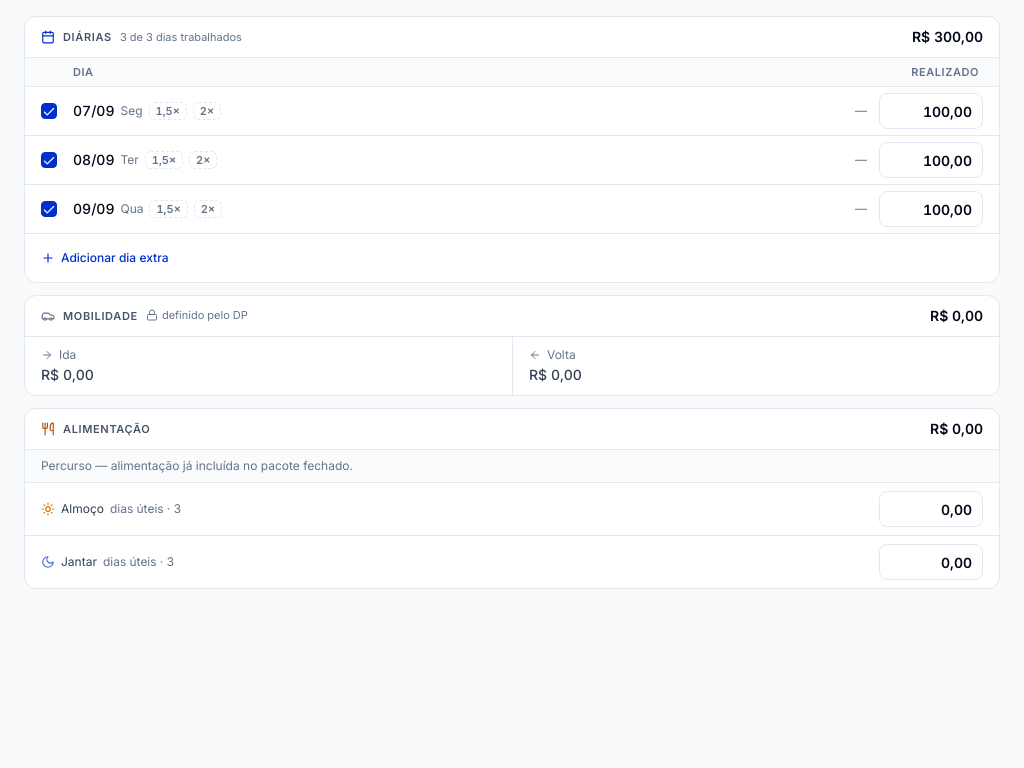
it: grade de dias do Realizado — dobra de turno (29/10) › DP: marcar a dobra num dia de 1,5 tira o ½ (um dia não é as duas coisas)
Click the button with test id "rea-meia-2026-09-07". click: (168,111)
box: [148,102,187,120]
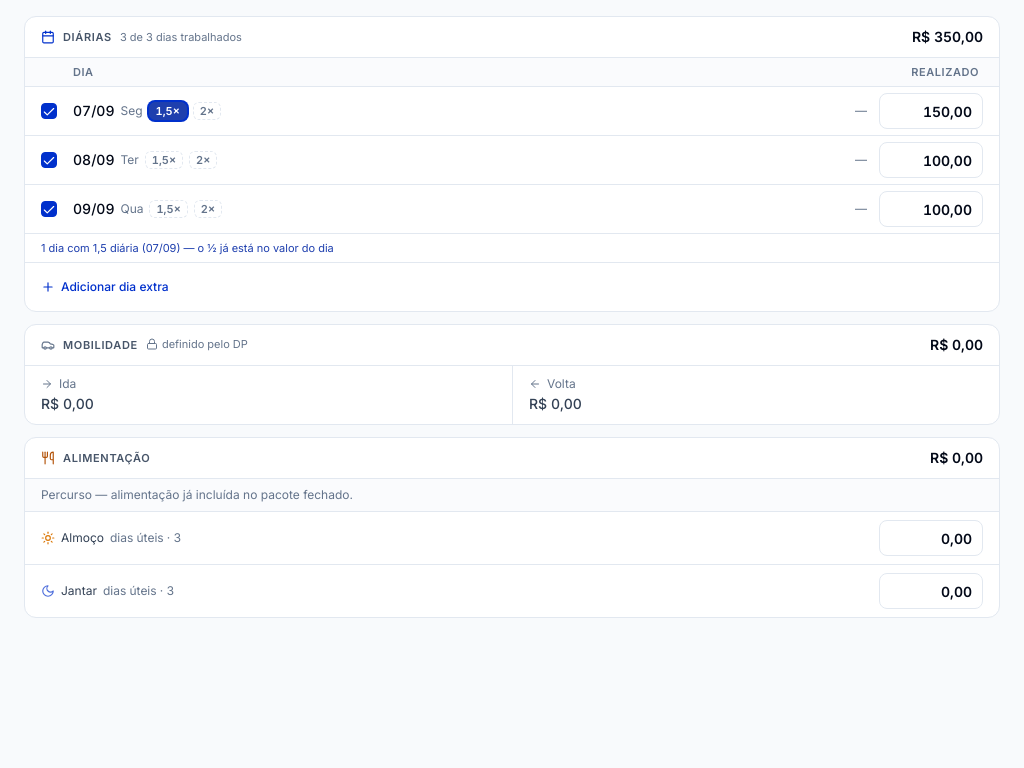
Expected: the button with test id "rea-meia-2026-09-07" is pressed, [148,102,187,120]
Click the button with test id "rea-dobra-2026-09-07". click: (207,111)
box: [193,102,221,120]
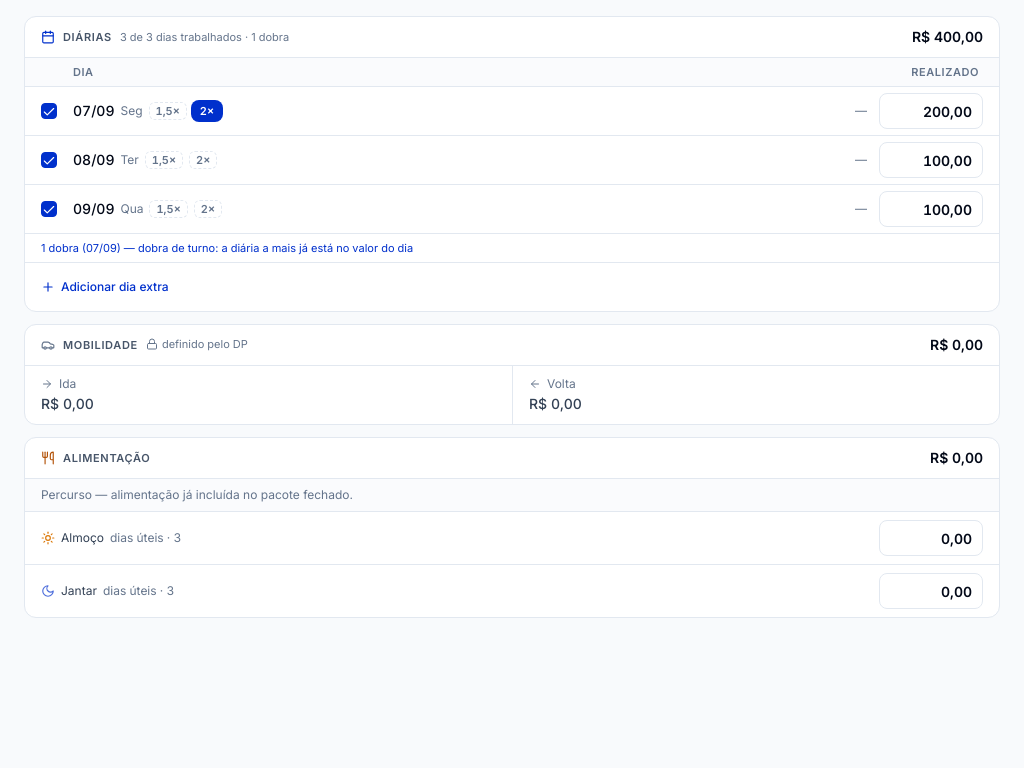
Expected: the field named "Diária realizada em 07/09" holds "200,00", [879,93,983,129]
